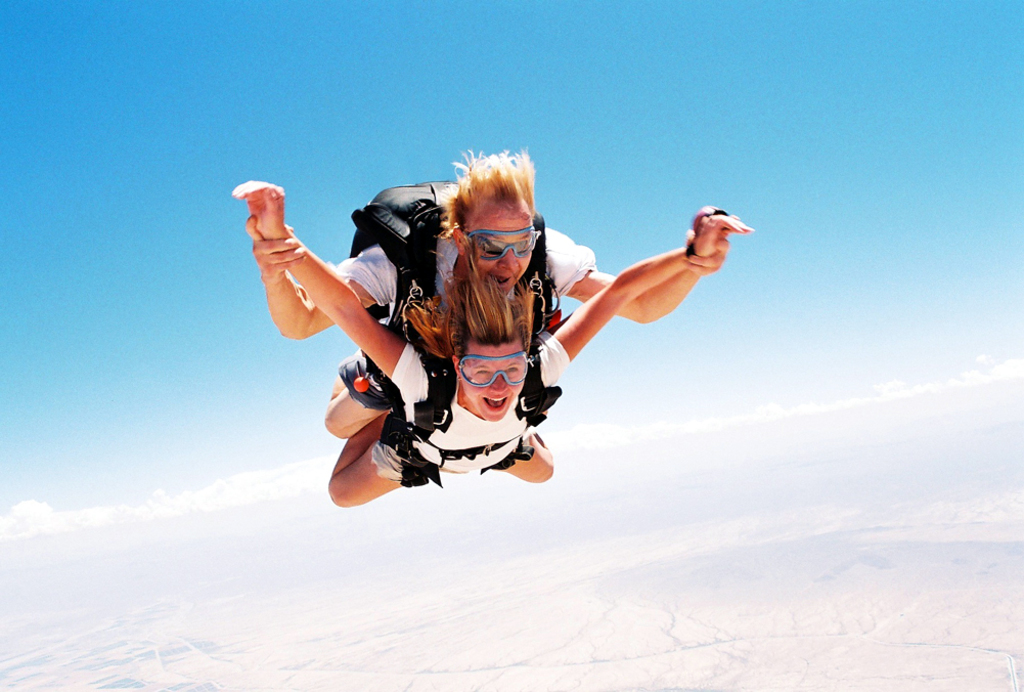Person: (242, 145, 729, 440)
